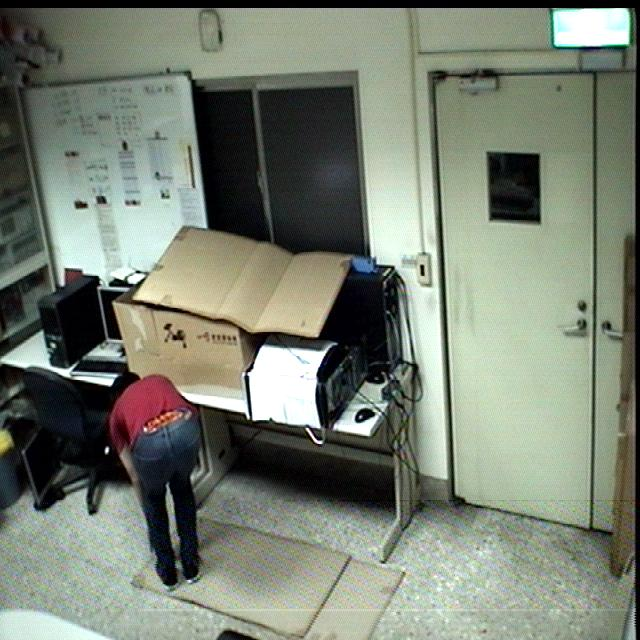bend: (102, 364, 216, 594)
